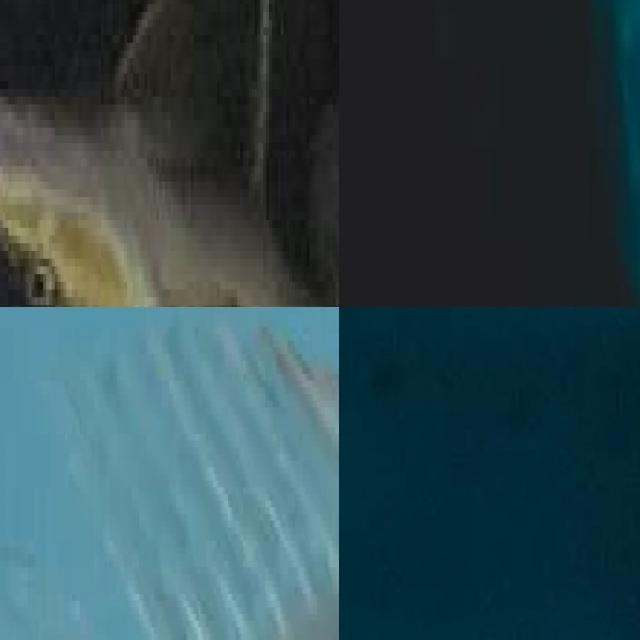fish: (0, 307, 339, 640), (0, 0, 339, 307), (339, 307, 640, 640), (538, 0, 640, 307)
